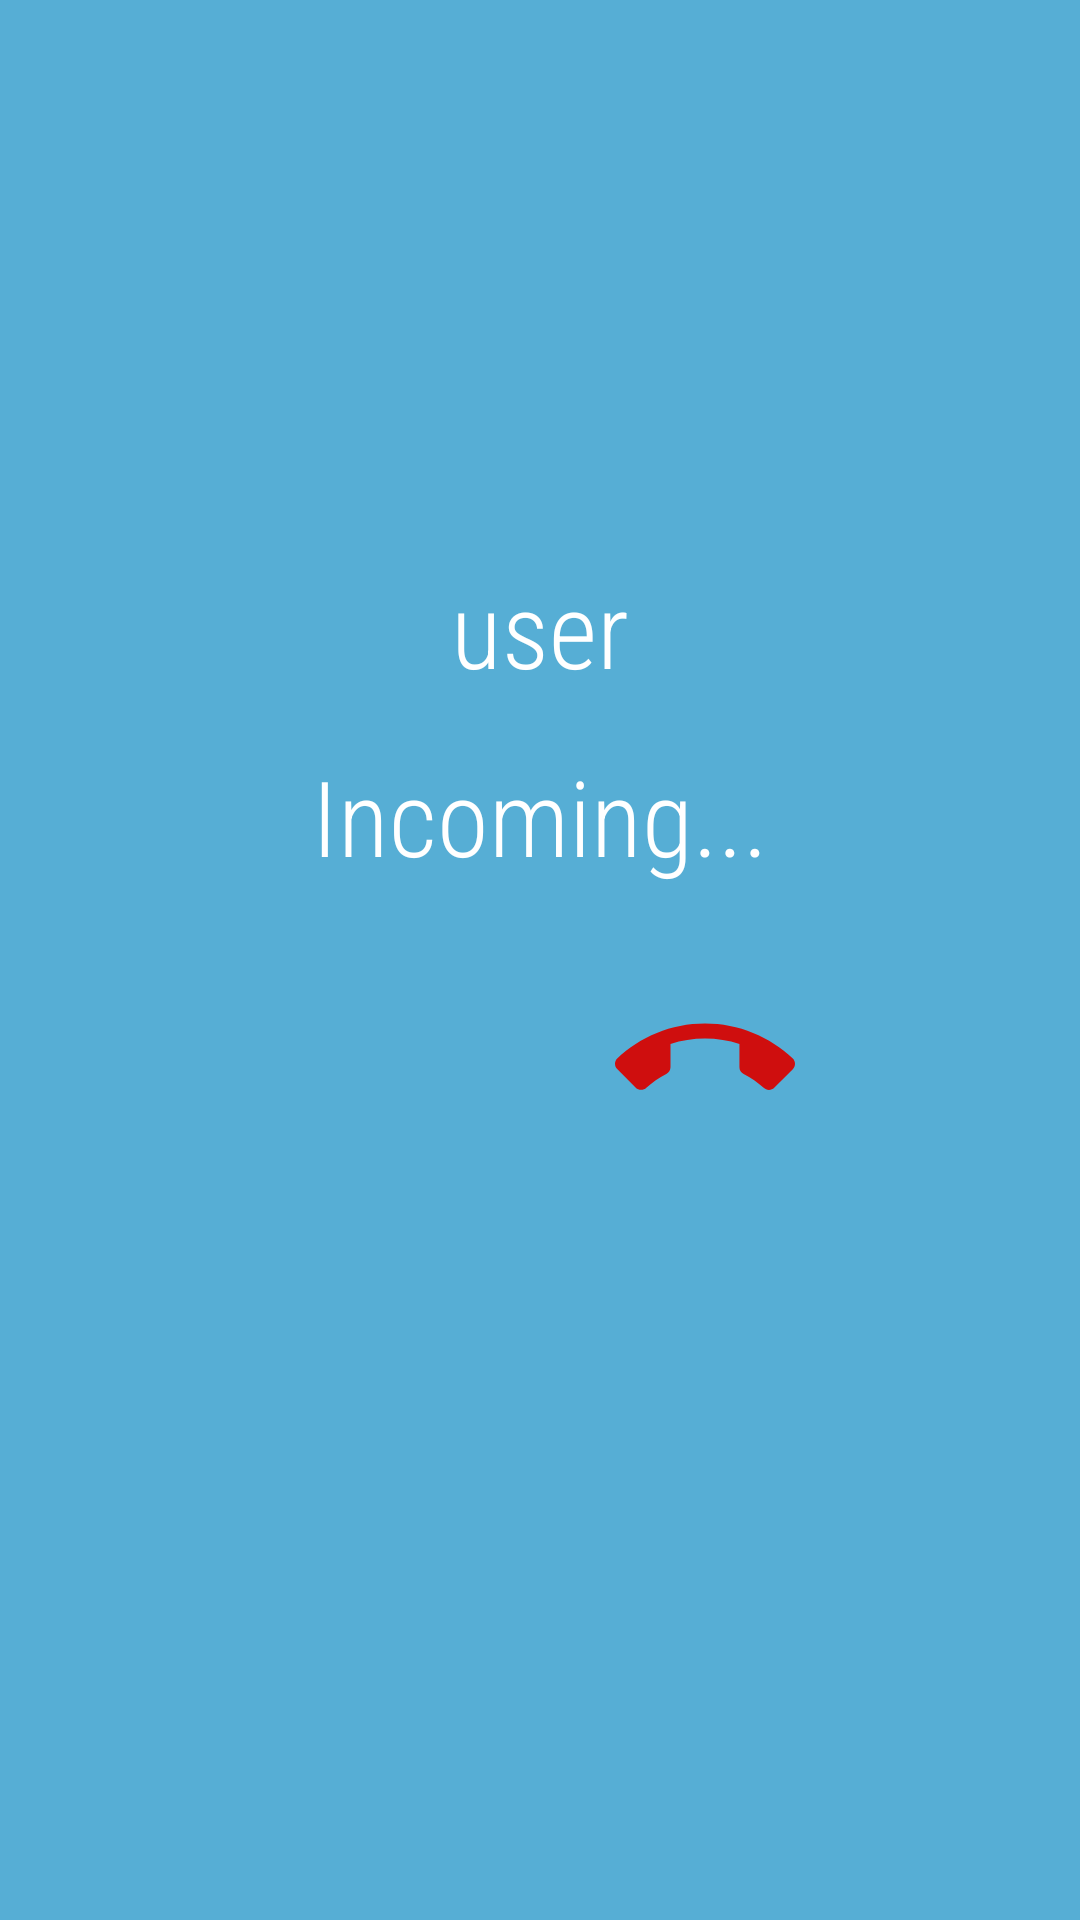

Point at icon controls on the screen. Image size 1080 x 1920, points as (x,y).
endcallimg: (705,1056)
